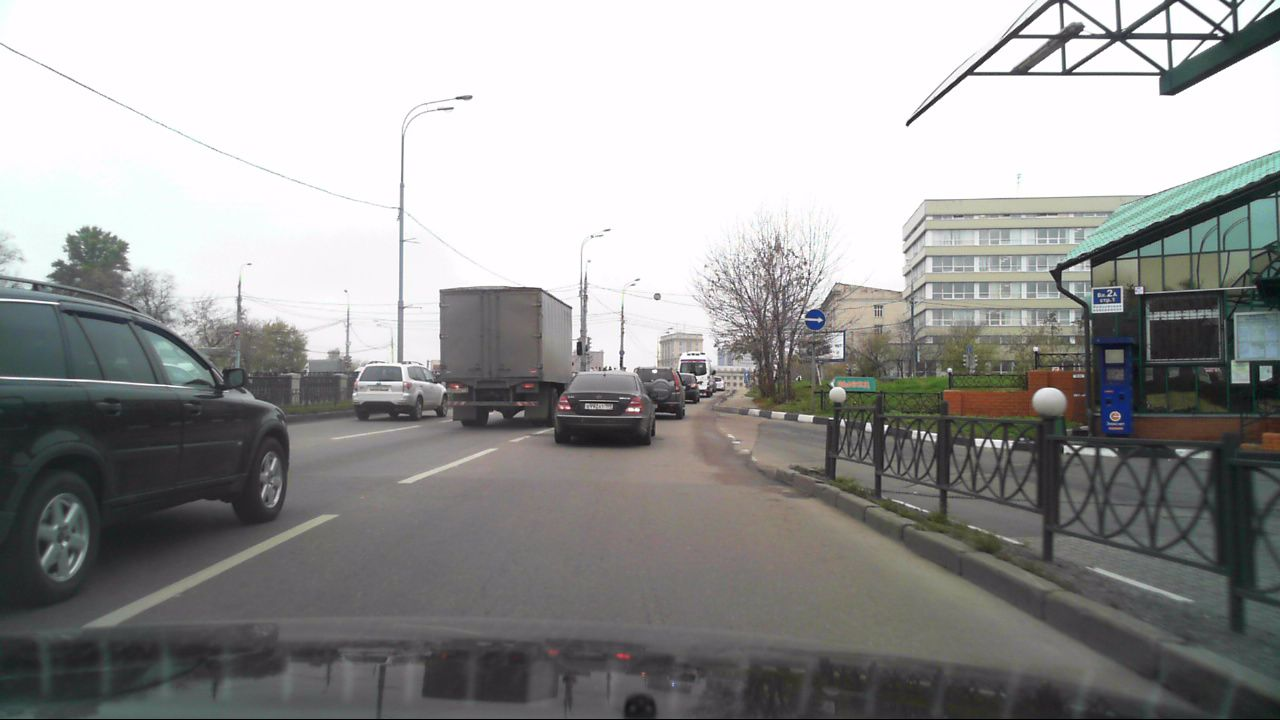Turn Right: (805, 309, 825, 330)
